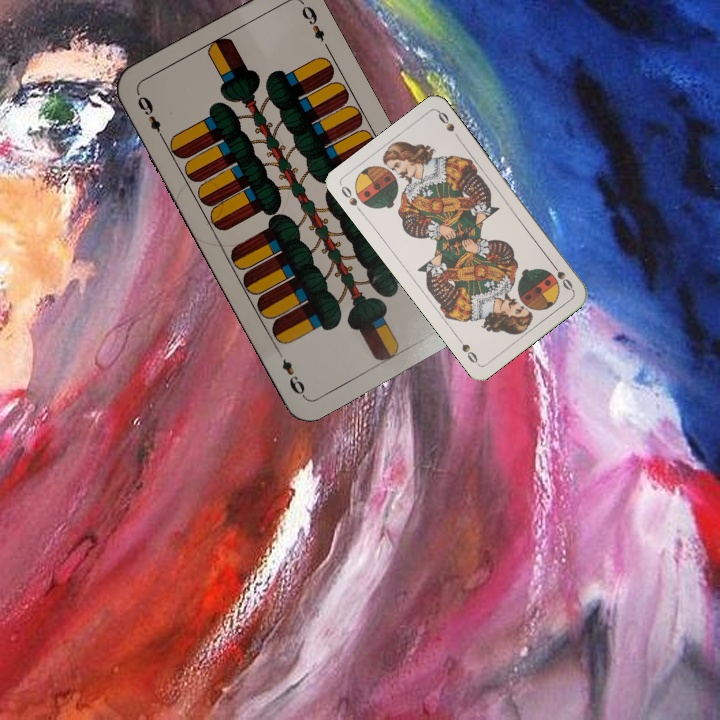E9: (133, 89, 168, 144)
SO: (547, 258, 576, 293), (337, 182, 366, 216)
